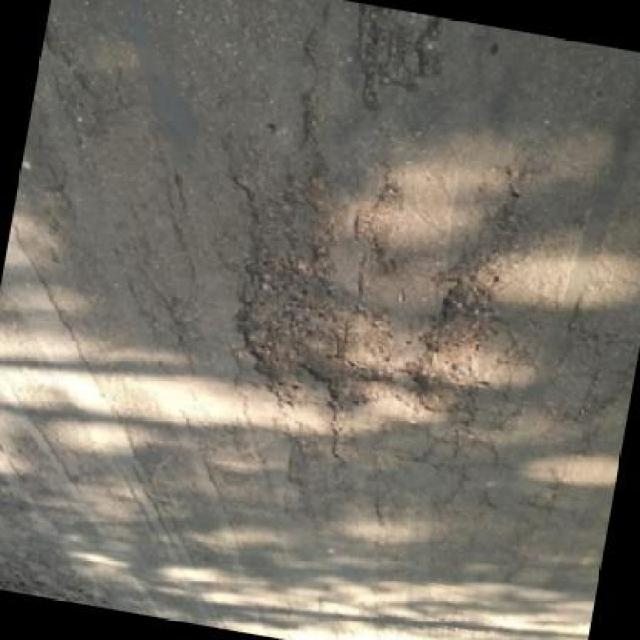pothole: (220, 249, 422, 426), (408, 258, 510, 424)
